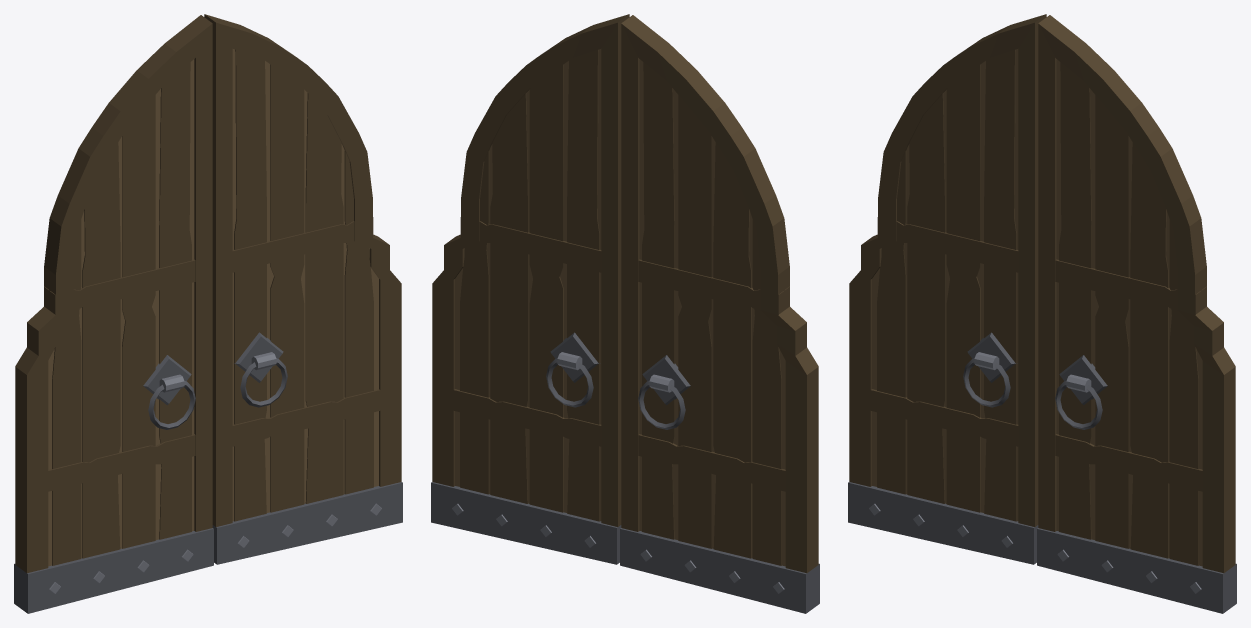
The model's file is quaternius-ultimate-modular-ruins-doors-gothicarch.glb.
The picture shows the model from 3 angles, left to right: view 1: azimuth 30°, elevation 25°; view 2: azimuth 150°, elevation 25°; view 3: azimuth 330°, elevation 25°; orthographic projection.
Parts seen in each view (by area): view 1: Doors_GothicArch_L; view 2: Doors_GothicArch_L; view 3: Doors_GothicArch_L.
Part boxes in pixels (<box>): Doors_GothicArch_L: <box>14,14,402,613</box>; Doors_GothicArch_L: <box>431,14,819,613</box>; Doors_GothicArch_L: <box>848,14,1236,613</box>.
Size of the model in its own units: 2.31 by 3.21 by 0.2743.
